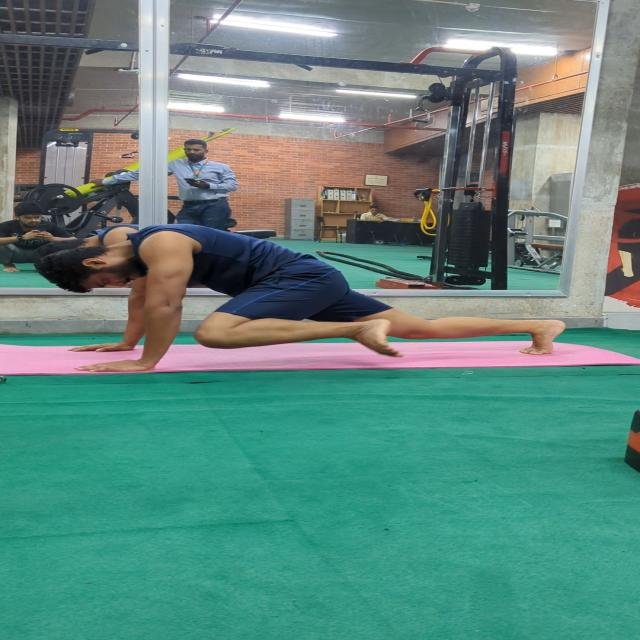Normal_MountainClimbers: (19, 222, 598, 376)
